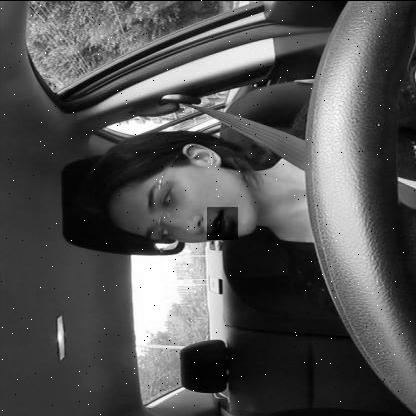seatbelt: (73, 119, 416, 252)
